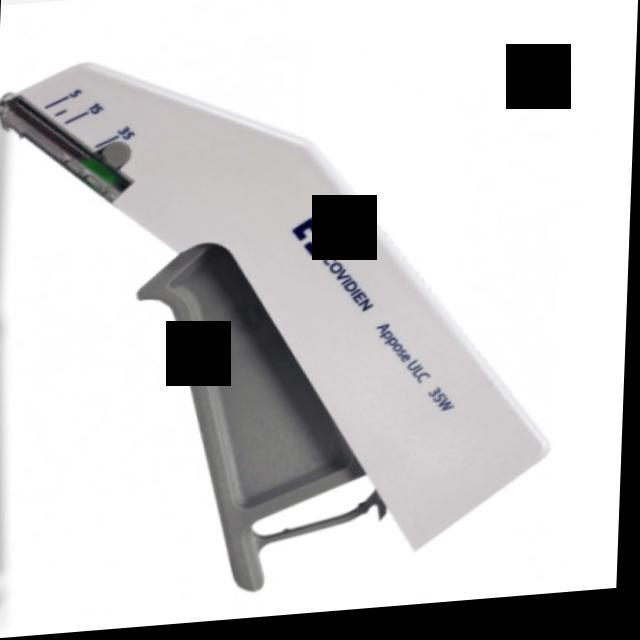Skin Stapler: (0, 32, 572, 614)
